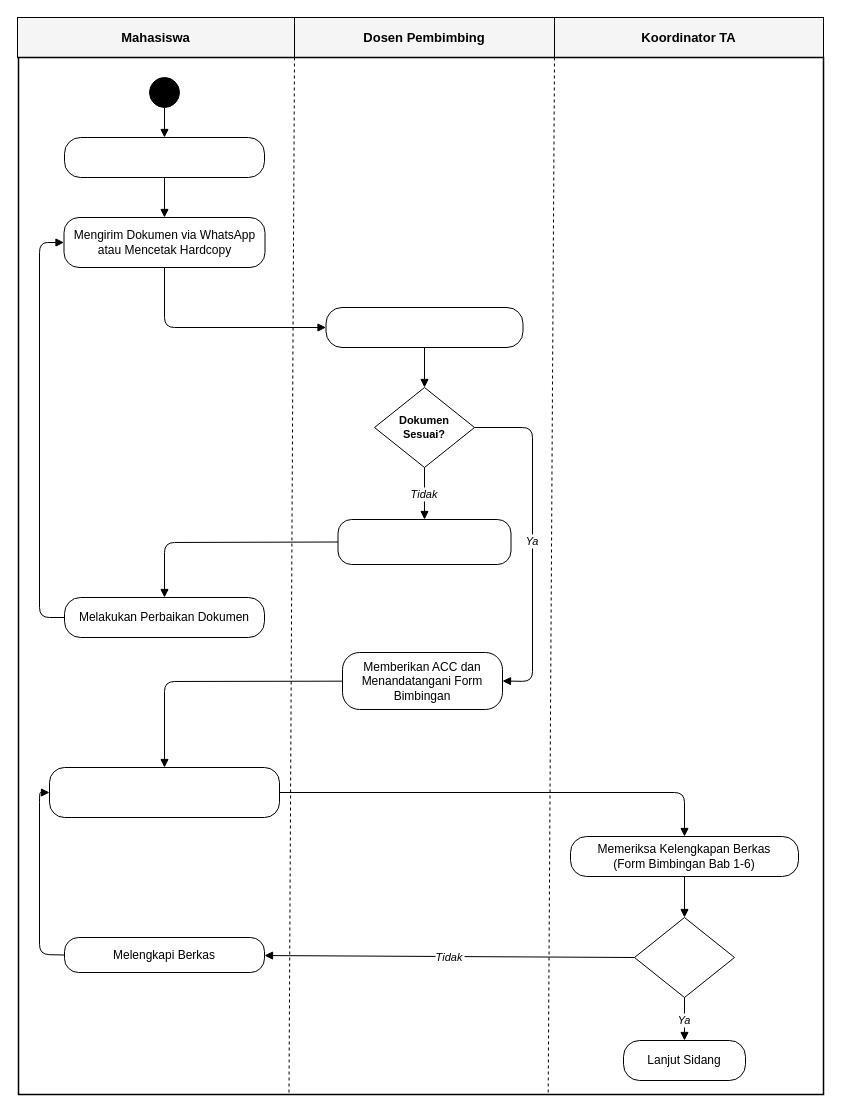
Image size: 842x1115. Some labels were removed from this diagram. Each missing label, with the centre of its shape:
"Berkas Lengkap?" goes at pixel 684 957.
"Memberikan Catatan Revisi (Lisan / WhatsApp)" goes at pixel 424 541.
"Mencetak Lembar Persetujuan dan Mengumpulkan Berkas" goes at pixel 164 792.
"Menerima dan Membaca Dokumen" goes at pixel 424 327.
"Menyiapkan Dokumen Skripsi" goes at pixel 164 157.
